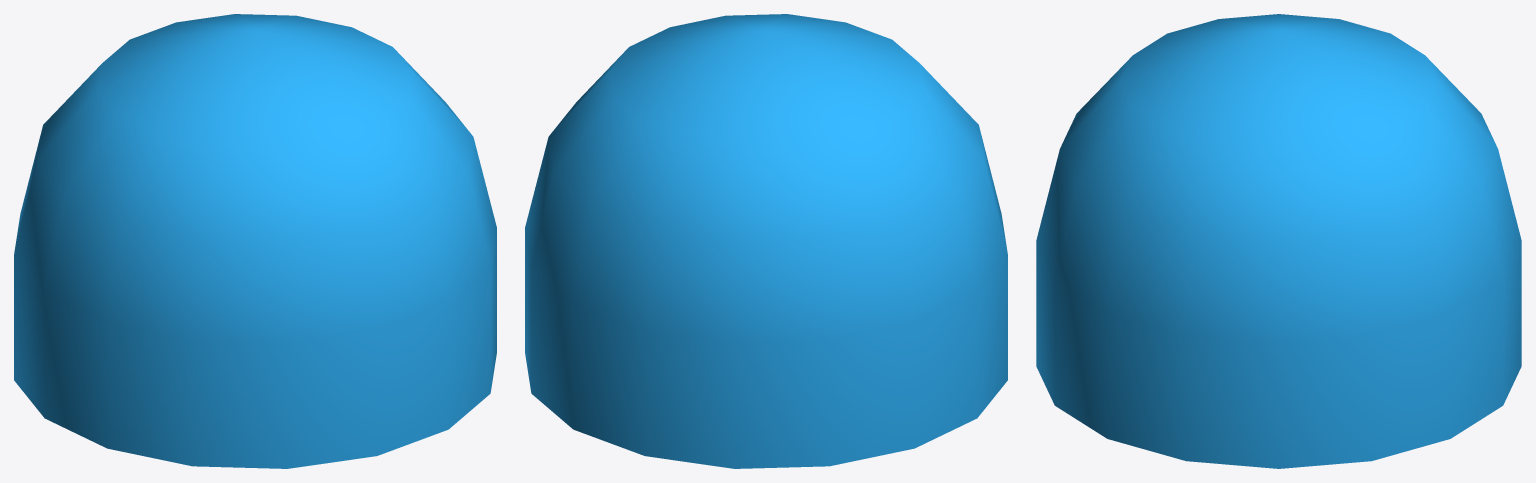
File: Arm_City_SSleeve_Blue_02_L.fbx
The picture shows the model from 3 angles, left to right: view 1: azimuth 30°, elevation 25°; view 2: azimuth 150°, elevation 25°; view 3: azimuth 270°, elevation 25°; orthographic projection.
Parts seen in each view (by area): view 1: Arm_City_SSleeve_Blue_02_L; view 2: Arm_City_SSleeve_Blue_02_L; view 3: Arm_City_SSleeve_Blue_02_L.
Part boxes in pixels (x1,y1,x2,y2): Arm_City_SSleeve_Blue_02_L: [14, 14, 496, 468]; Arm_City_SSleeve_Blue_02_L: [525, 14, 1007, 468]; Arm_City_SSleeve_Blue_02_L: [1036, 14, 1521, 468].
Size of the model in its own units: 48.18 by 36.77 by 48.18.
